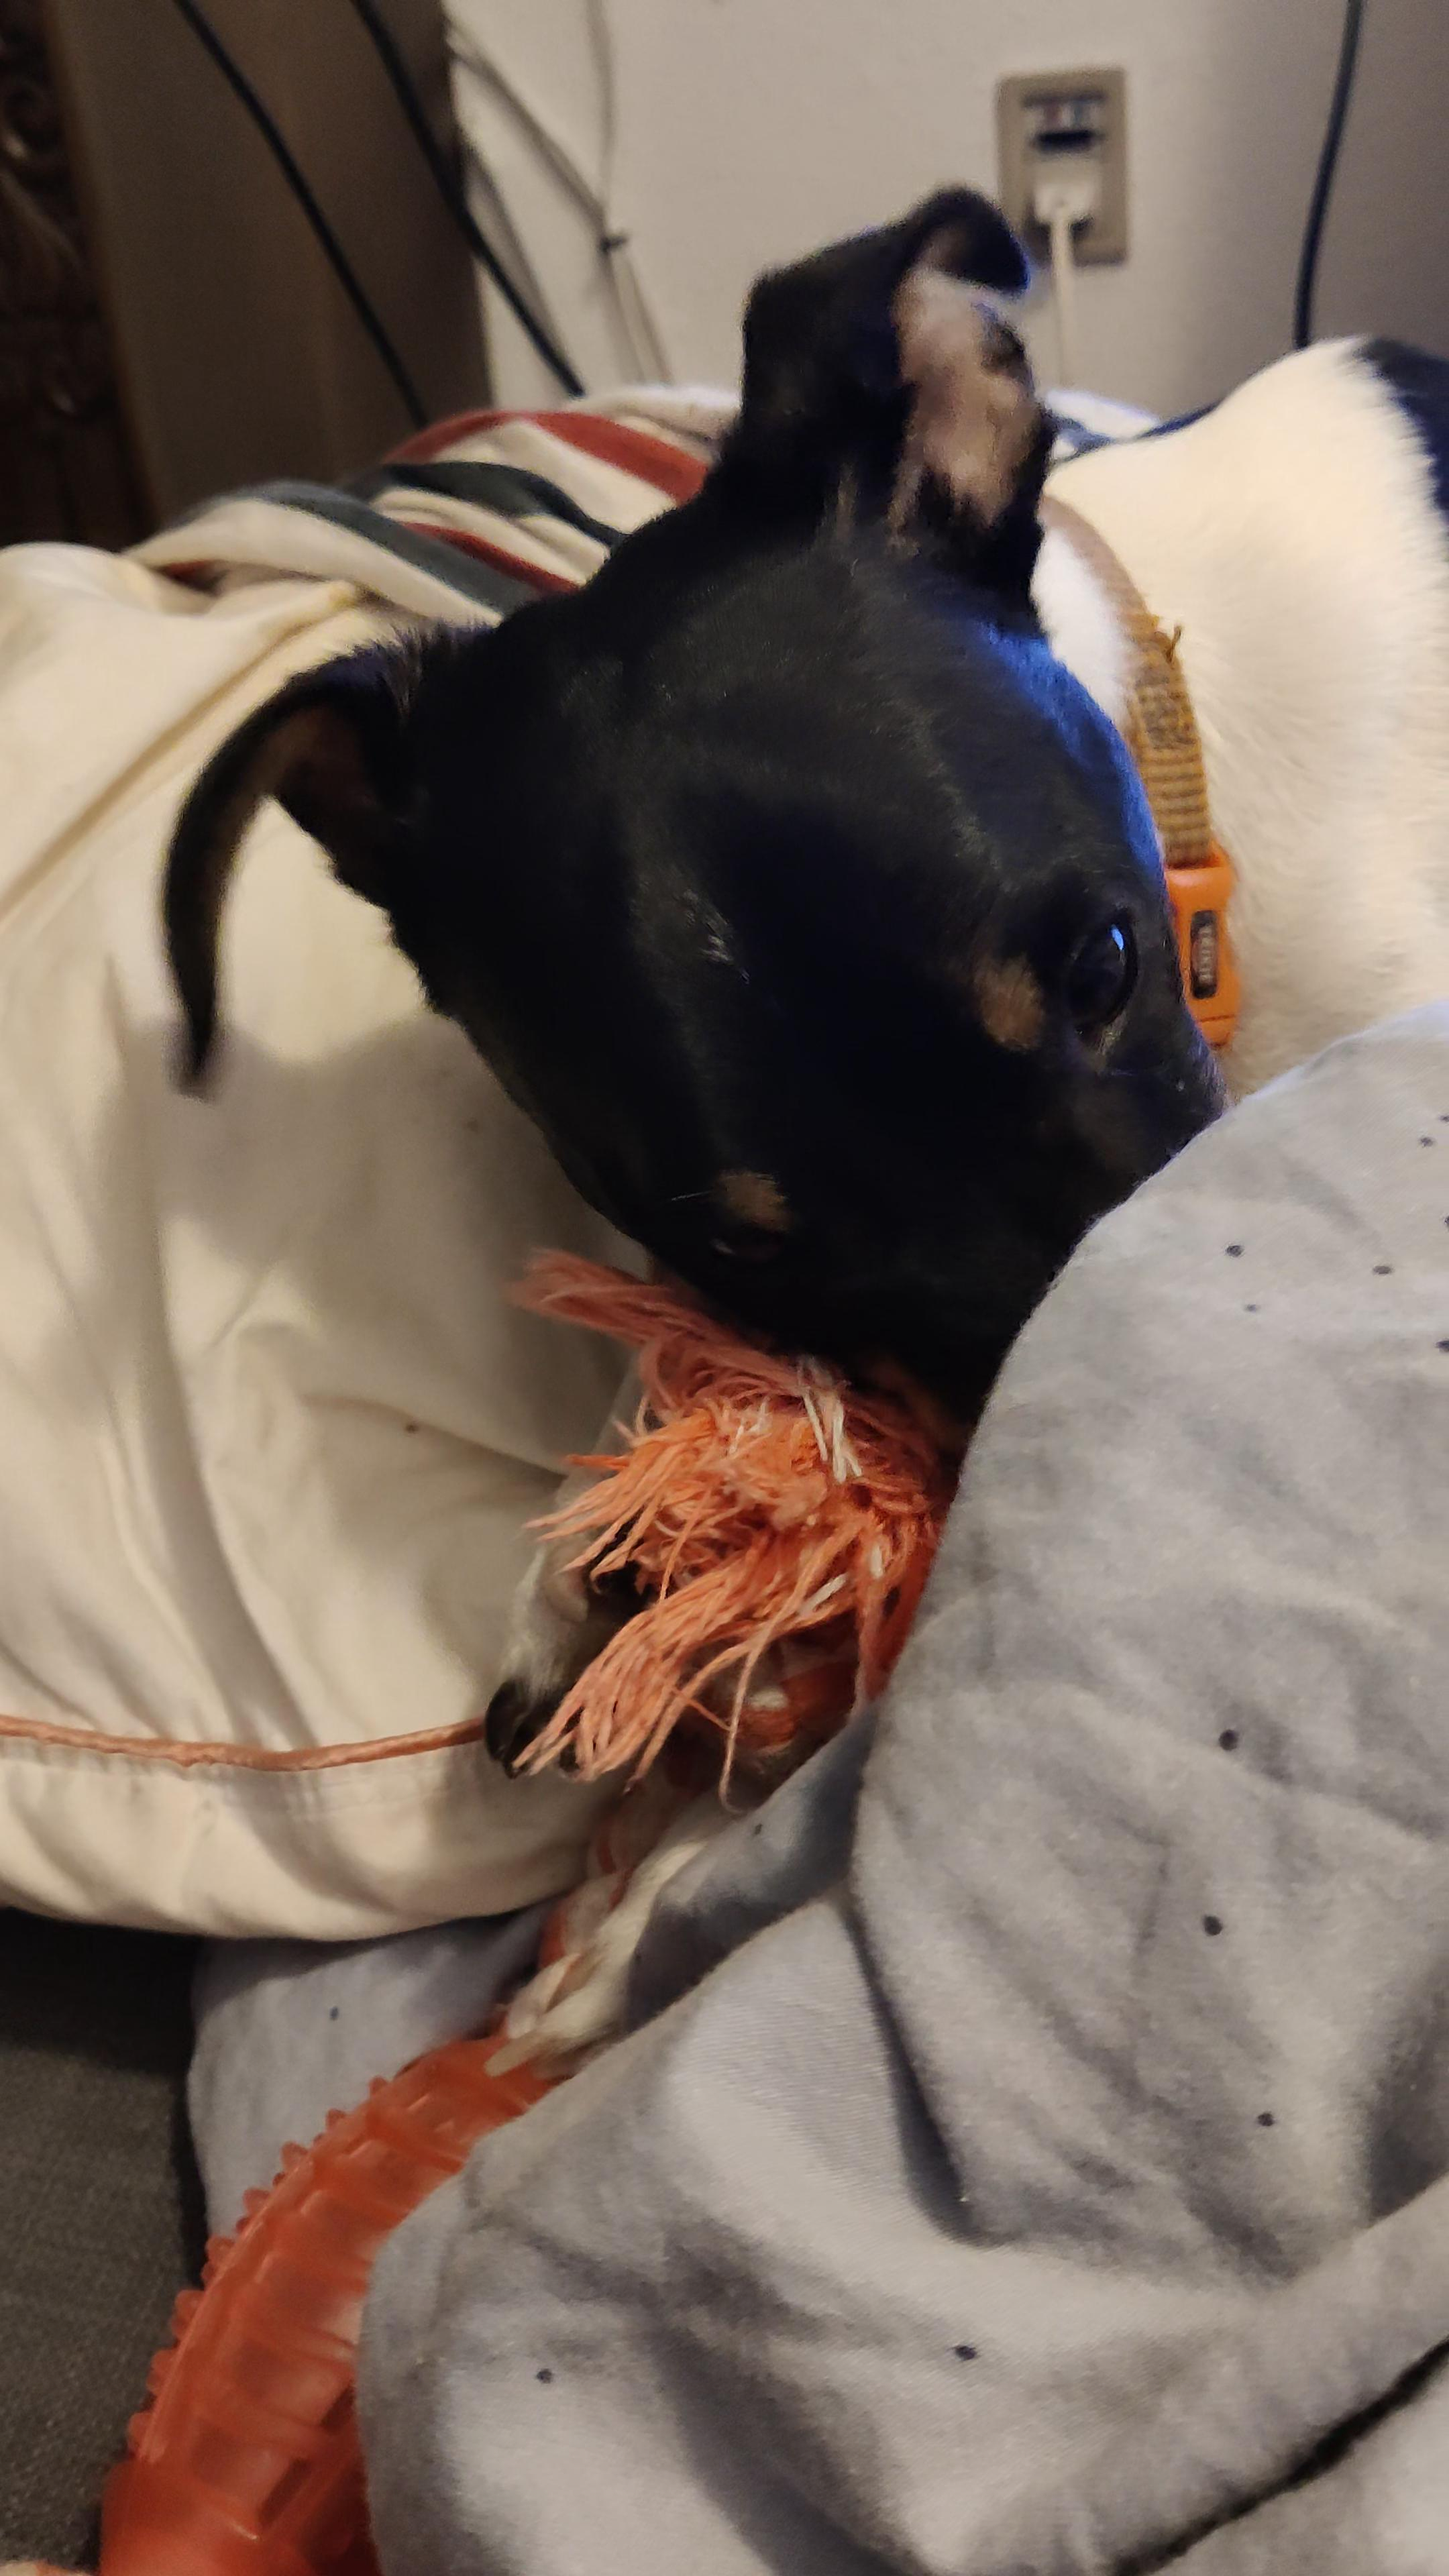Dog: (133, 165, 1449, 2088)
